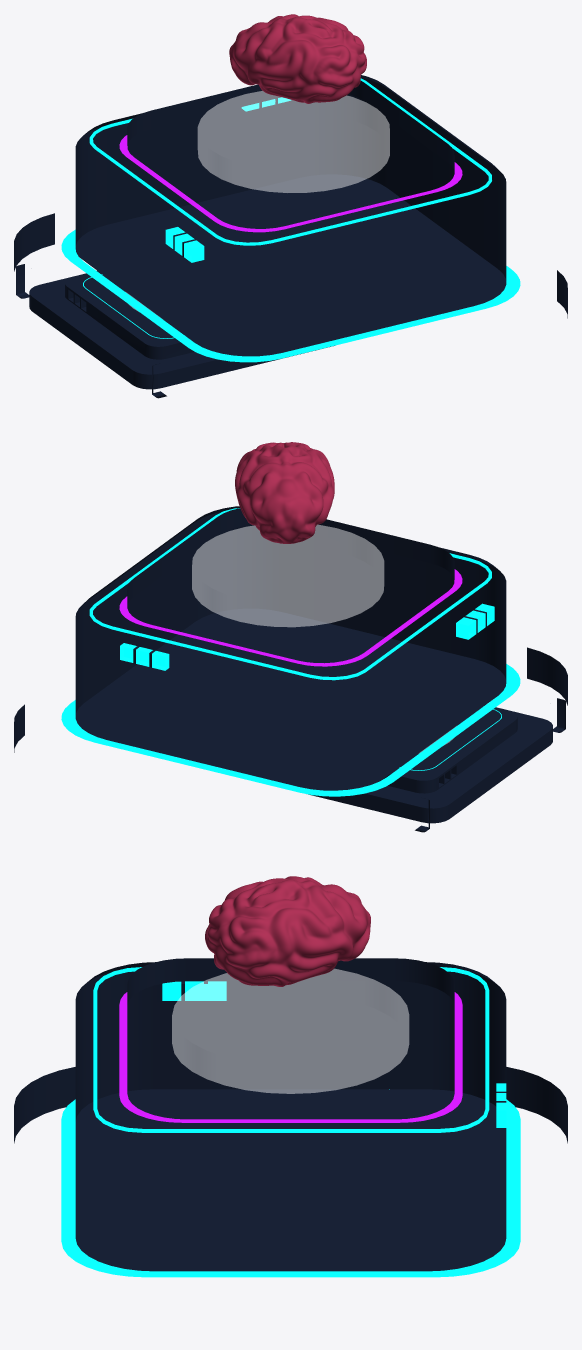
Rendered from Fin_lab_platform2.glb.
3 renders of one model, top to bottom at view 1: azimuth 30°, elevation 25°; view 2: azimuth 150°, elevation 25°; view 3: azimuth 270°, elevation 25°, orthographic. The views are drawn at different scales.
Visible parts, largest first — view 1: Cube.003, Plane.005, Artificial_Intellegence, Sub_platform, Cube.004, Cube, Platform, Plane.003; view 2: Cube.003, Plane.005, Artificial_Intellegence, Sub_platform, Cube.004, Cube, Platform, Plane.003; view 3: Cube.003, Plane.005, Artificial_Intellegence, Cube, Cube.004, Plane.003.
Boxes of the visible parts, x1,y1,x2,y2 form: Cube.003: [75, 75, 506, 356]; Plane.005: [198, 91, 389, 192]; Artificial_Intellegence: [229, 14, 366, 103]; Sub_platform: [29, 270, 334, 389]; Cube.004: [119, 81, 462, 232]; Cube: [14, 213, 567, 362]; Platform: [65, 271, 194, 359]; Plane.003: [89, 78, 491, 245]; Cube.003: [75, 506, 506, 790]; Plane.005: [192, 525, 383, 626]; Artificial_Intellegence: [235, 442, 334, 543]; Sub_platform: [308, 707, 552, 823]; Cube.004: [119, 508, 462, 666]; Cube: [14, 647, 567, 796]; Platform: [381, 706, 517, 793]; Plane.003: [89, 508, 491, 680]; Cube.003: [75, 962, 506, 1271]; Plane.005: [172, 969, 408, 1093]; Artificial_Intellegence: [205, 876, 370, 986]; Cube: [14, 1067, 567, 1277]; Cube.004: [119, 958, 462, 1122]; Plane.003: [93, 967, 489, 1132].
Bounding box in the file's own units: 7.29 × 5.75 × 7.04.
